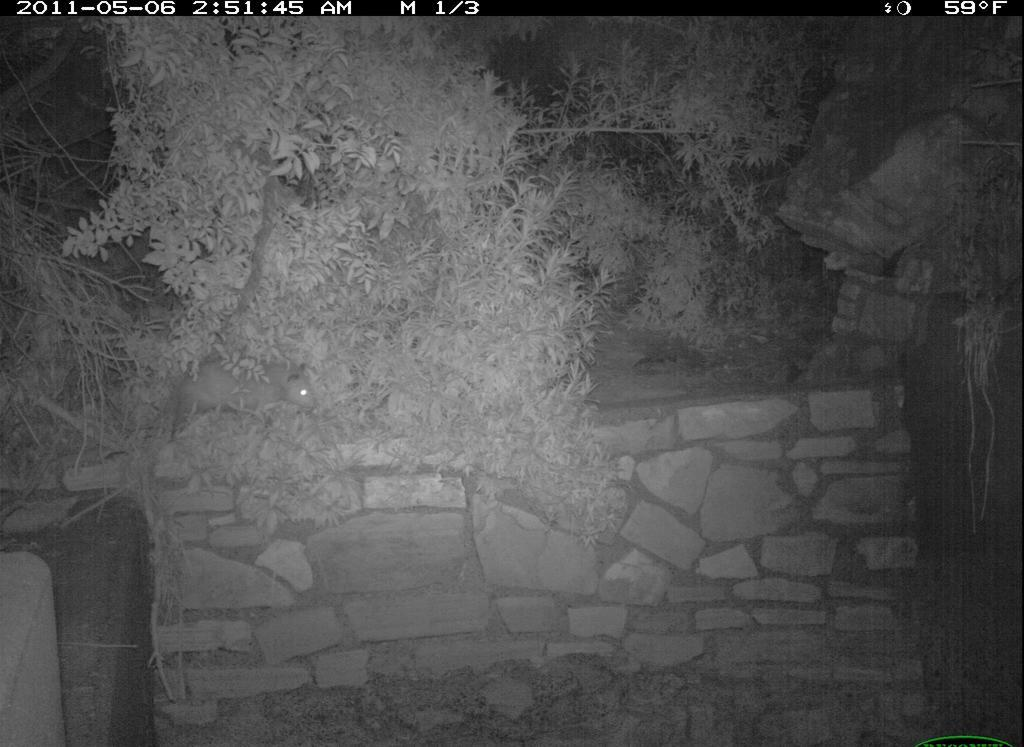opossum: (150, 341, 340, 454)
